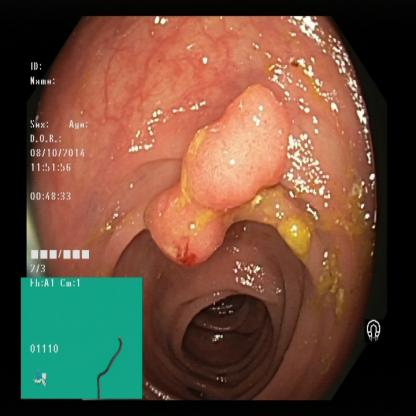Labels: (29, 57, 107, 276), (20, 279, 142, 401), (360, 314, 386, 350)
Polyps: (172, 95, 293, 203), (150, 185, 232, 277)
